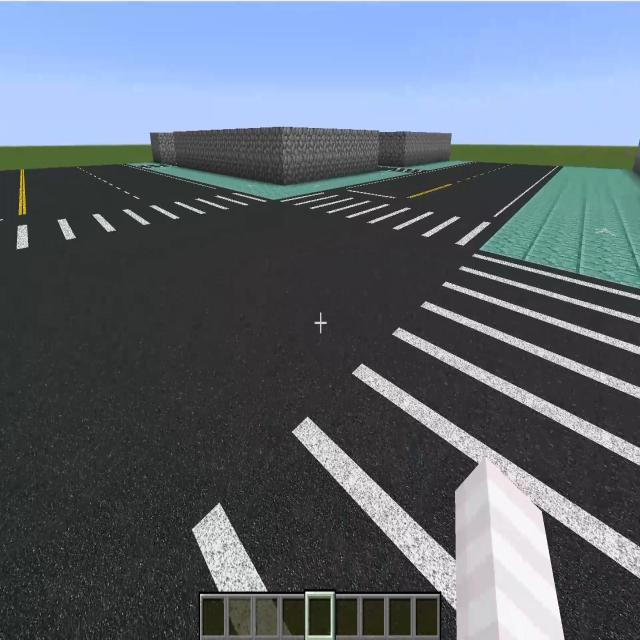crosswalk: (88, 253, 640, 639), (0, 190, 270, 260), (281, 190, 494, 247), (397, 170, 424, 173)
road: (0, 203, 473, 631), (0, 166, 233, 224), (351, 165, 562, 225)
sidewalk: (482, 167, 640, 289), (135, 165, 407, 197), (414, 162, 464, 169)
